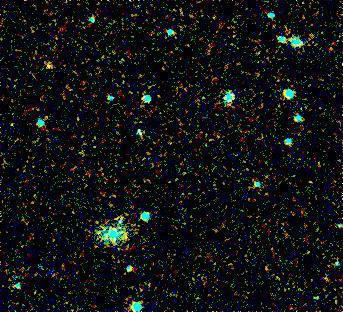star: (33, 53, 63, 83)
